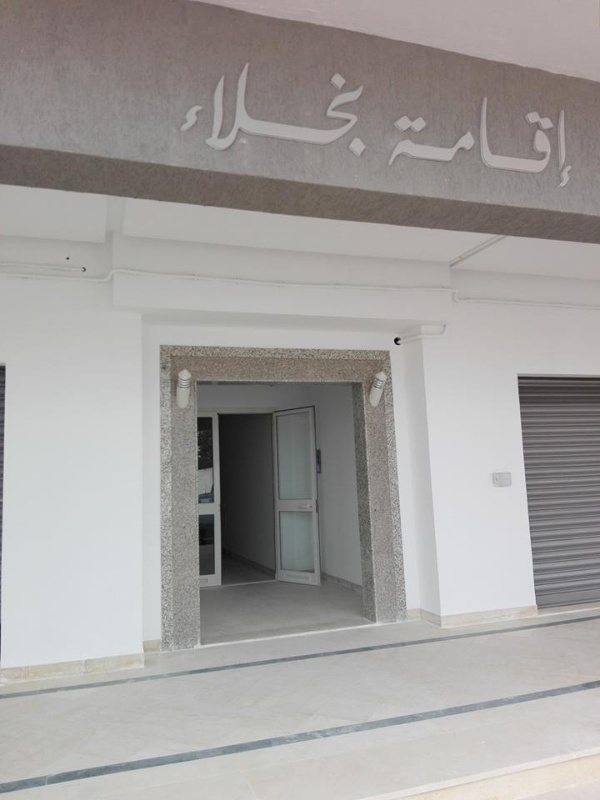text: (193, 54, 208, 166), (209, 54, 224, 166), (225, 54, 240, 166), (241, 54, 256, 166), (257, 54, 272, 166), (273, 54, 288, 166), (289, 54, 304, 166), (305, 54, 320, 166), (321, 54, 336, 166), (337, 54, 352, 166), (353, 54, 368, 166), (401, 96, 416, 190), (417, 96, 432, 190), (433, 96, 448, 190), (449, 96, 464, 190), (465, 96, 480, 190), (481, 96, 496, 190), (497, 96, 512, 190), (513, 96, 528, 190), (529, 96, 544, 190), (545, 96, 560, 190), (561, 96, 576, 190), (186, 54, 192, 166), (369, 54, 373, 166), (399, 96, 400, 190)
